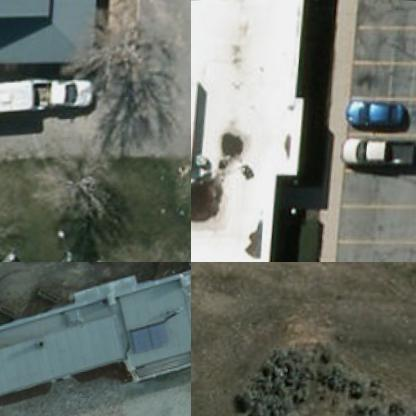camping car: (0, 73, 41, 120)
car: (346, 97, 410, 128)
pickup: (17, 70, 102, 112), (342, 135, 415, 167)
